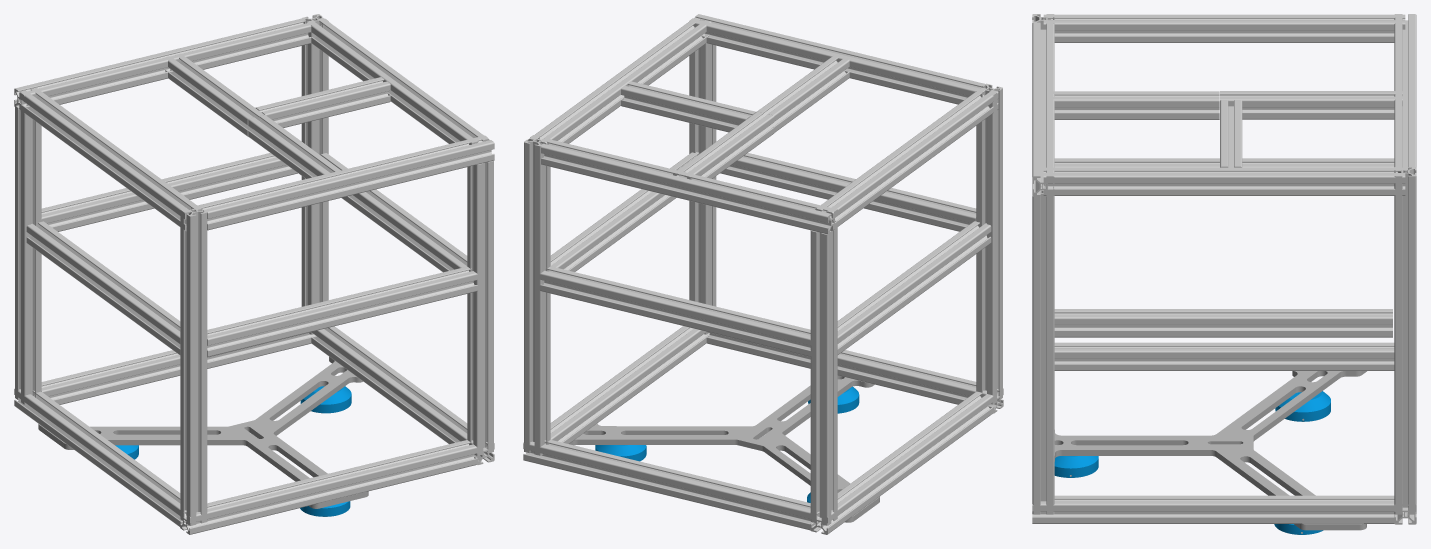
Rendered from abv_v1.dae.
3 renders of one model, left to right at view 1: azimuth 30°, elevation 25°; view 2: azimuth 150°, elevation 25°; view 3: azimuth 270°, elevation 25°, orthographic. The views are drawn at different scales.
Visible parts, largest first — view 1: Object.005, Object.007, Object.009, Object.026, Object.011, Object.019, Object.002, Object.016, Object.004, Object.006, Object.003, Object.015 (+9 smaller); view 2: Object.016, Object.002, Object, Object.001, Object.004, Object.005, Object.007, Object.026, Object.011, Object.006, Object.003, Object.009 (+9 smaller); view 3: Object.020, Object.015, Object.006, Object.003, Object.088, Object.026, Object, Object.019, Object.010, Object.017, Object.007, Object.002 (+4 smaller).
Part boxes in pixels (x1,y1,x2,y2): Object.005: (180, 205, 207, 525); Object.007: (198, 135, 494, 230); Object.009: (180, 440, 476, 534); Object.026: (38, 356, 368, 508); Object.011: (207, 266, 478, 357); Object.019: (467, 160, 493, 455); Object.002: (14, 18, 311, 113); Object.016: (15, 107, 41, 404); Object.004: (41, 153, 297, 231); Object.006: (19, 88, 202, 231); Object.003: (14, 388, 181, 526); Object.015: (311, 326, 494, 464); Object.016: (810, 228, 837, 525); Object.002: (541, 139, 837, 234); Object: (524, 135, 550, 455); Object.001: (523, 439, 812, 530); Object.004: (539, 266, 811, 356); Object.005: (976, 83, 1002, 404); Object.007: (689, 14, 984, 104); Object.026: (569, 375, 879, 522); Object.011: (720, 153, 976, 231); Object.006: (815, 87, 998, 230); Object.003: (810, 391, 993, 534); Object.009: (706, 332, 1003, 413); Object.020: (1043, 167, 1405, 195); Object.015: (1032, 495, 1394, 523); Object.006: (1043, 14, 1405, 42); Object.003: (1054, 342, 1394, 370); Object.088: (1054, 309, 1392, 337); Object.026: (1054, 371, 1366, 530); Object: (1394, 167, 1416, 514); Object.019: (1032, 190, 1054, 514); Object.010: (1053, 91, 1219, 119); Object.017: (1220, 91, 1402, 119); Object.007: (1032, 23, 1054, 196); Object.002: (1394, 14, 1416, 169).
Bounding box in the file's own units: 0.3454 × 0.3439 × 0.3664.
